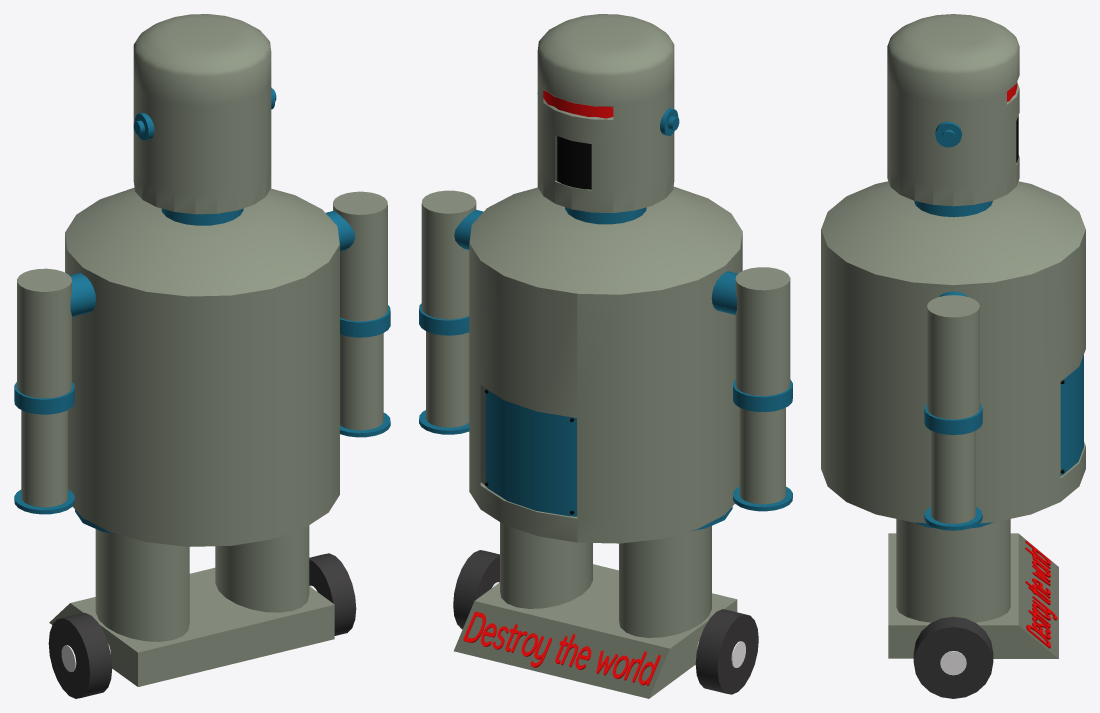
File: robot.glb
3 views of the same model, side by side, from view 1: azimuth 30°, elevation 25°; view 2: azimuth 150°, elevation 25°; view 3: azimuth 270°, elevation 25° (orthographic). The views are drawn at different scales.
Parts seen in each view (by area): view 1: Object_6, Object_7, Object_4; view 2: Object_6, Object_4, Object_7, Object_5, Object_3; view 3: Object_6, Object_4, Object_7, Object_5, Object_2.
Part boxes in pixels (left/top/right/bottom): Object_6: left=17, top=14, right=387, bottom=686; Object_7: left=48, top=553, right=356, bottom=698; Object_4: left=14, top=87, right=390, bottom=534; Object_6: left=421, top=14, right=790, bottom=698; Object_4: left=419, top=93, right=792, bottom=530; Object_7: left=453, top=550, right=758, bottom=694; Object_5: left=463, top=90, right=660, bottom=685; Object_3: left=484, top=136, right=591, bottom=514; Object_6: left=821, top=14, right=1085, bottom=658; Object_4: left=913, top=121, right=1083, bottom=530; Object_7: left=913, top=616, right=993, bottom=698; Object_5: left=1007, top=82, right=1057, bottom=648; Object_2: left=940, top=651, right=966, bottom=675.
Bounding box in the file's own units: 1.54 × 2.52 × 1.
